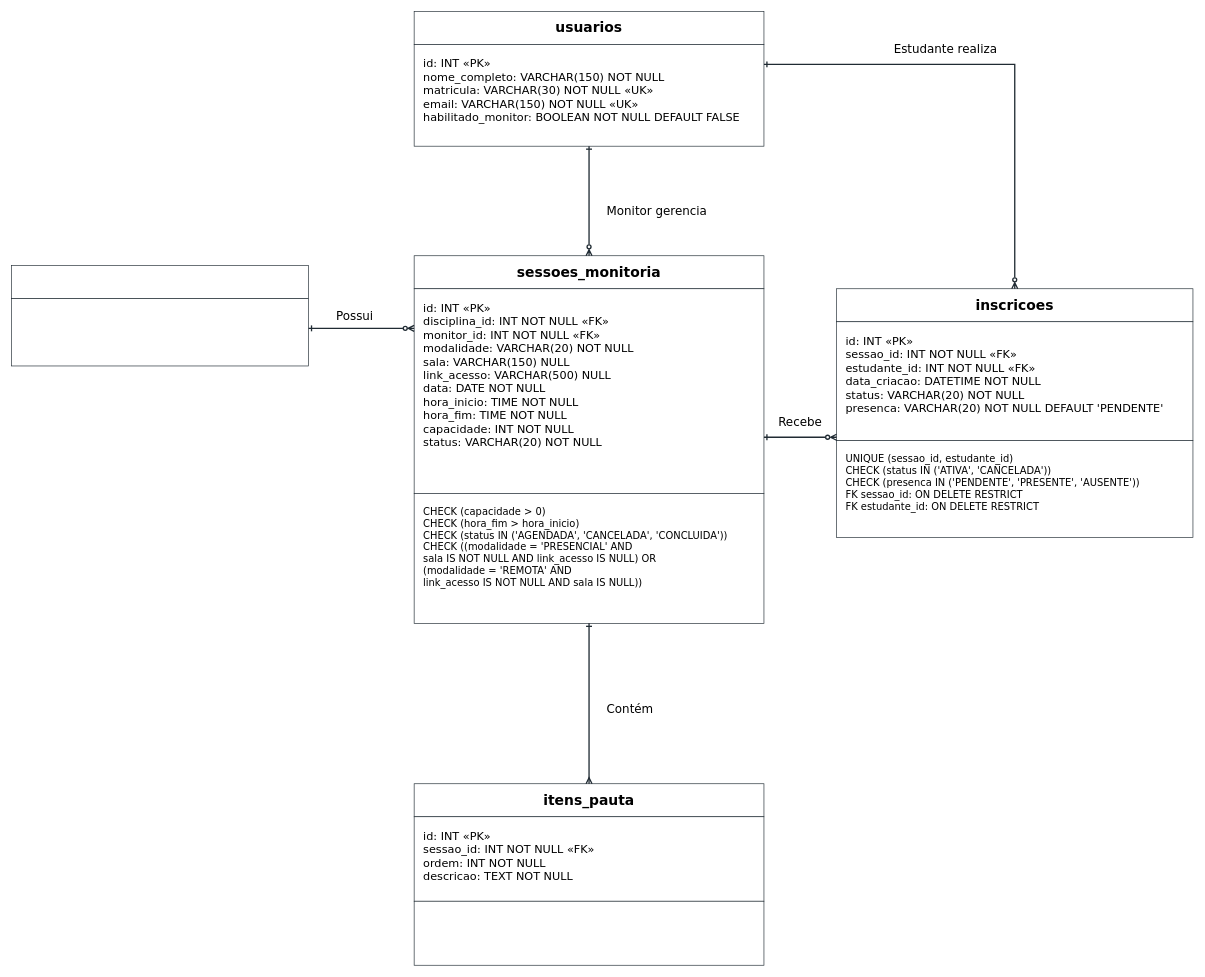
Some shapes in this 1205 by 977 pixel diagram are drawn without their labels. Each missing label, with the centre of its shape:
"disciplinas" goes at point 160,282.
"id: INT «PK» codigo: VARCHAR(30) NOT NULL «UK» nome: VARCHAR(120) NOT NULL" goes at point 160,332.
"UNIQUE (sessao_id, ordem) CHECK (ordem > 0) FK sessao_id: ON DELETE CASCADE" goes at point 588,933.
